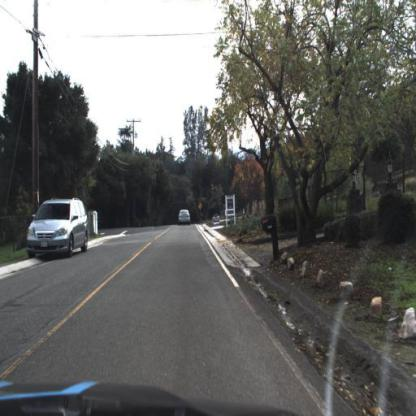car: (24, 191, 92, 270), (176, 206, 192, 230)
